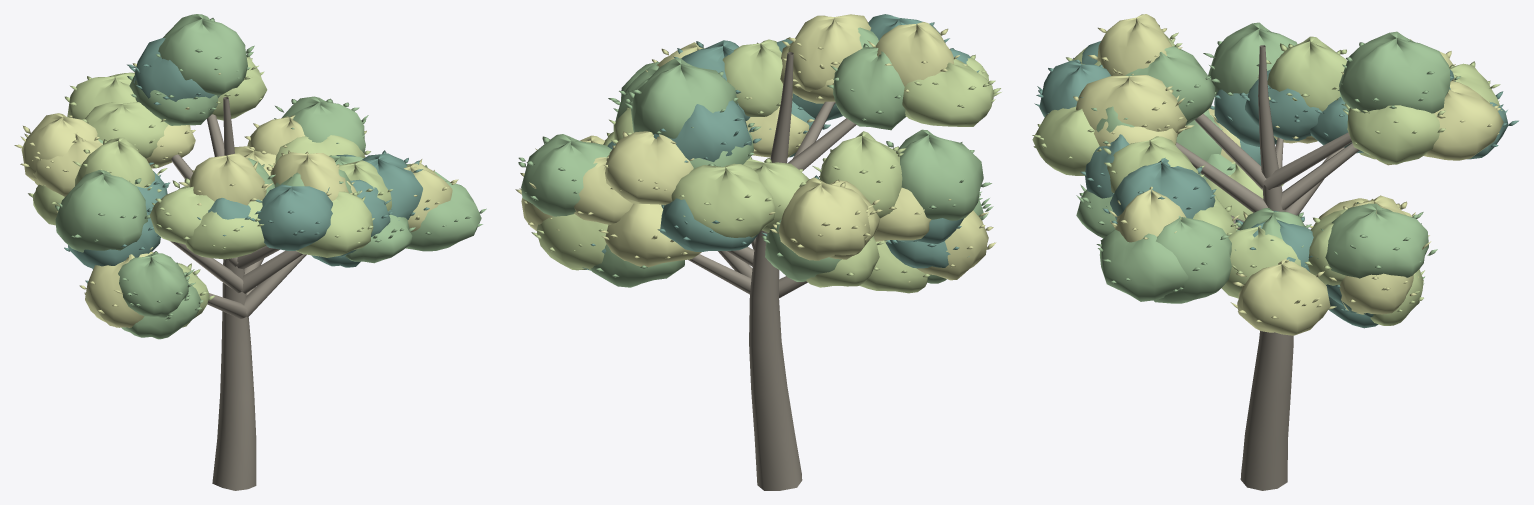
The model's file is oak_ancient.glb.
3 views of the same model, side by side, from view 1: azimuth 30°, elevation 25°; view 2: azimuth 150°, elevation 25°; view 3: azimuth 270°, elevation 25° (orthographic). The views are drawn at different scales.
Parts seen in each view (by area): view 1: oak_ancient; view 2: oak_ancient; view 3: oak_ancient.
Boxes of the visible parts, left/top/right/bottom form: oak_ancient: left=14, top=14, right=486, bottom=490; oak_ancient: left=515, top=14, right=1001, bottom=490; oak_ancient: left=1032, top=14, right=1518, bottom=490.
Bounding box in the file's own units: 7.39 × 7.66 × 7.39.
